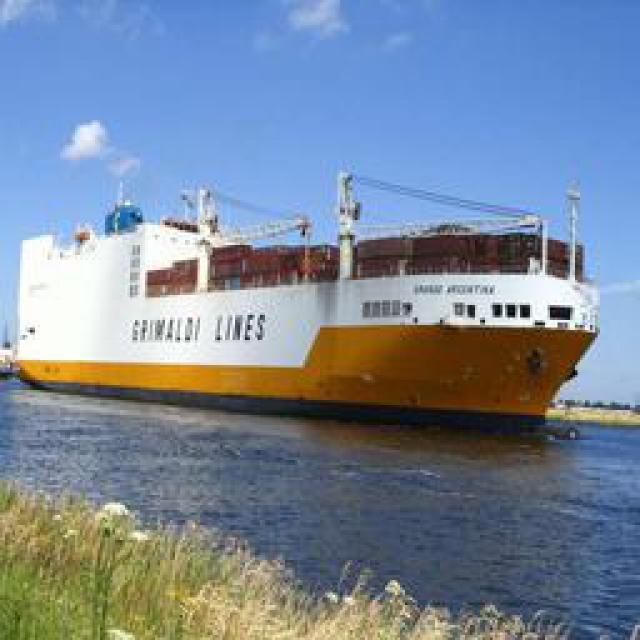Ship: (18, 158, 596, 423)
